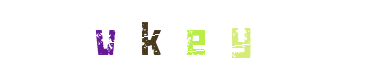E: (145, 0, 225, 80)
K: (109, 0, 189, 80)
V: (67, 0, 147, 80)
Y: (177, 0, 257, 80)
